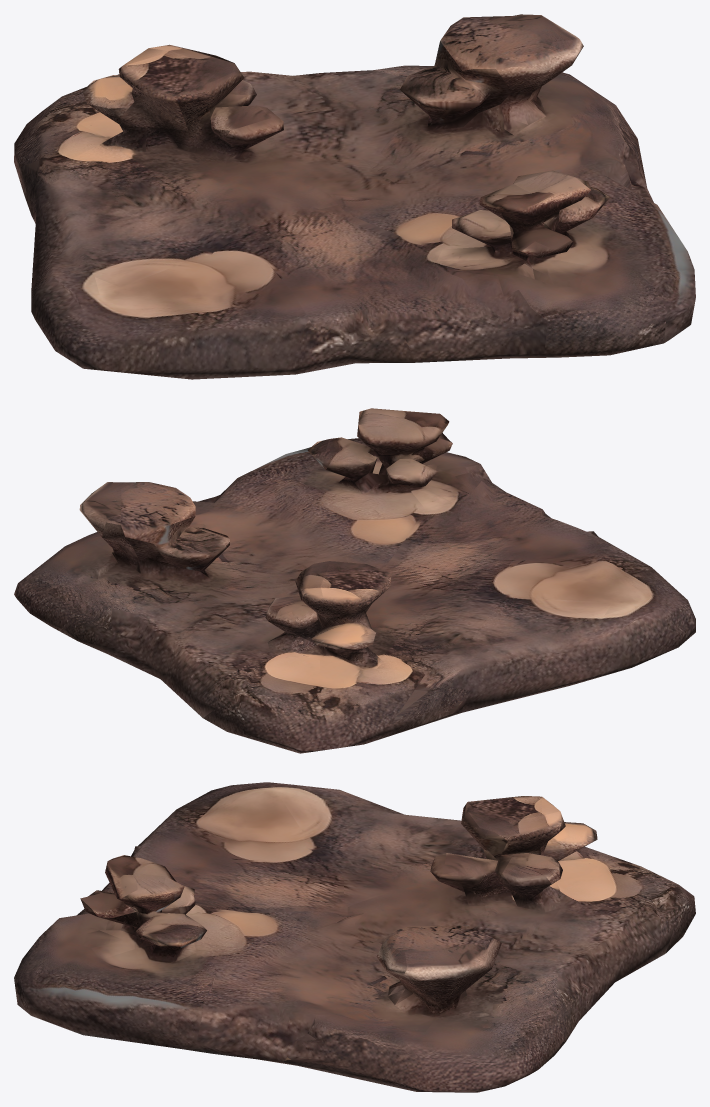
File: MushroomPlot.glb
3 views of the same model, one above another, from view 1: azimuth 30°, elevation 25°; view 2: azimuth 150°, elevation 25°; view 3: azimuth 270°, elevation 25° (orthographic). The views are drawn at different scales.
Parts seen in each view (by area): view 1: MushroomPlot; view 2: MushroomPlot; view 3: MushroomPlot.
Part boxes in pixels (bbox=[...]): MushroomPlot: bbox=[14, 14, 695, 379]; MushroomPlot: bbox=[14, 408, 695, 753]; MushroomPlot: bbox=[14, 782, 695, 1092].
Size of the model in its own units: 0.9916 by 0.1823 by 0.9961.
1 material, 1 textured.
